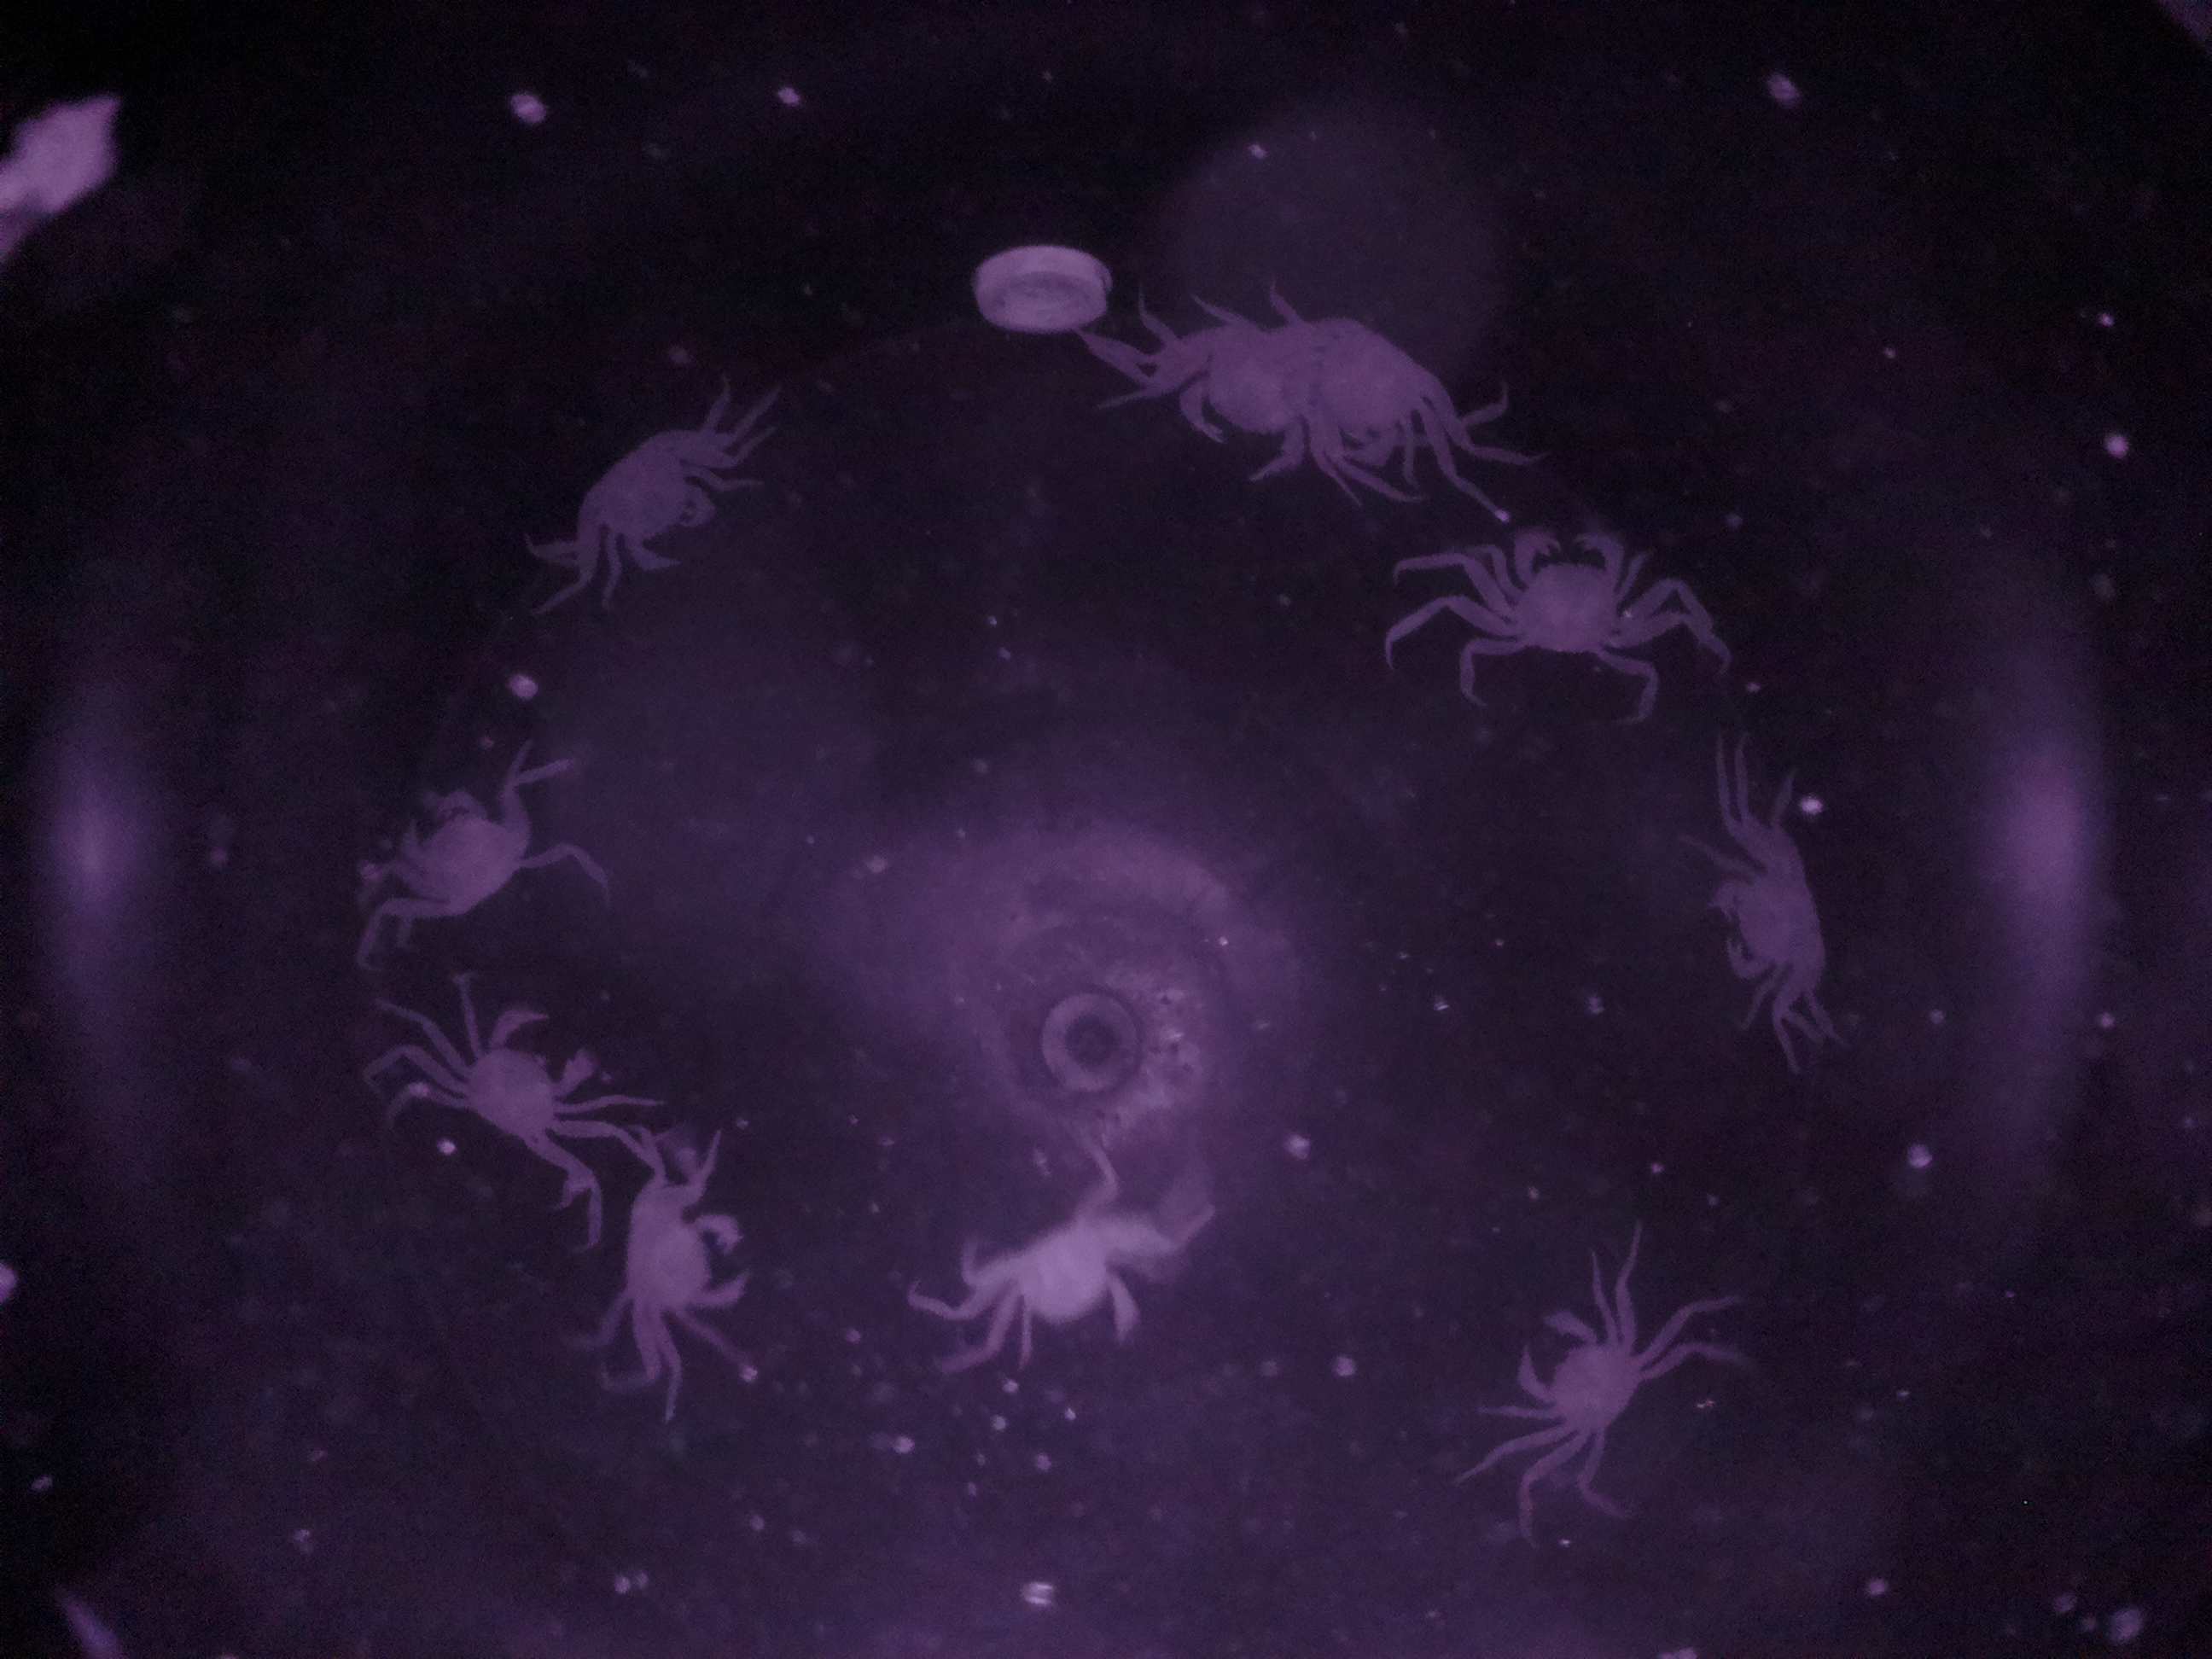Crab: (420, 978, 599, 1182), (1684, 835, 1851, 1016), (1486, 502, 1655, 674), (1508, 1297, 1674, 1467), (575, 415, 733, 589)
